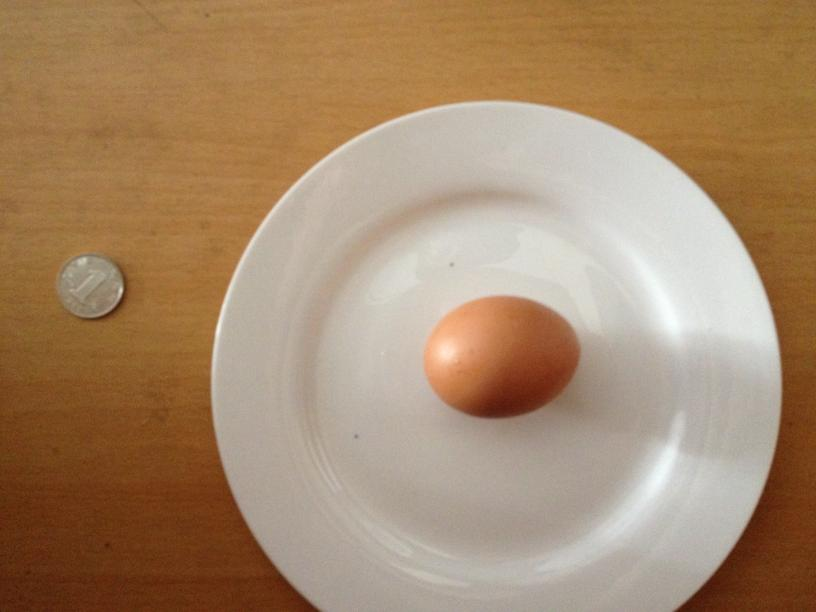coin: (56, 250, 125, 320)
egg: (420, 290, 580, 417)
